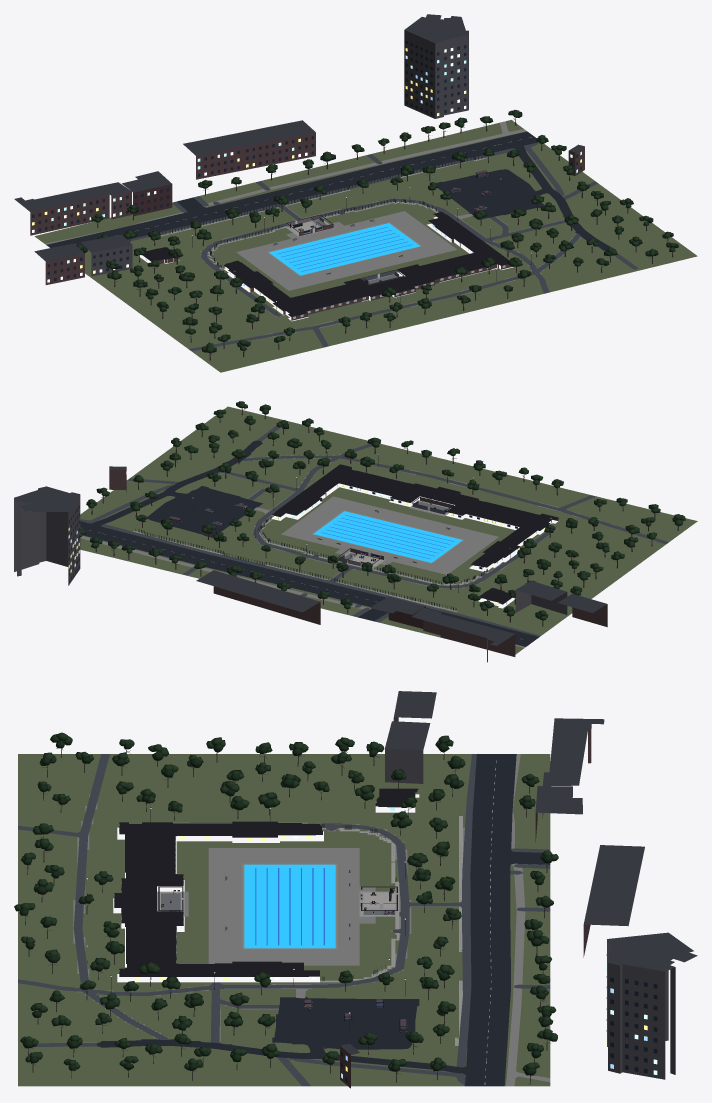
File: level.glb
The picture shows the model from 3 angles, top to bottom: view 1: azimuth 30°, elevation 25°; view 2: azimuth 150°, elevation 25°; view 3: azimuth 270°, elevation 25°; orthographic projection. The views are drawn at different scales.
Visible parts, largest first — view 1: static, blocks_caps, far_canopies, canopies, props_emit, far_windows; view 2: static, blocks_caps, far_canopies, canopies, props_emit; view 3: static, blocks_caps, far_canopies, canopies, props_emit.
Boxes of the visible parts, box(x1,y1,x2,y2) form: static: box(14, 14, 697, 372); blocks_caps: box(143, 212, 509, 316); far_canopies: box(76, 110, 678, 353); canopies: box(123, 148, 617, 323); props_emit: box(192, 175, 531, 301); far_windows: box(32, 48, 581, 282); static: box(14, 406, 697, 662); blocks_caps: box(272, 464, 558, 604); far_canopies: box(80, 401, 685, 620); canopies: box(136, 420, 598, 610); props_emit: box(181, 450, 551, 581); static: box(18, 691, 697, 1088); blocks_caps: box(114, 788, 418, 976); far_canopies: box(14, 732, 558, 1075); canopies: box(51, 769, 464, 1036); props_emit: box(86, 808, 406, 1031).
Bounding box in the file's own units: 217 × 30.02 × 172.
